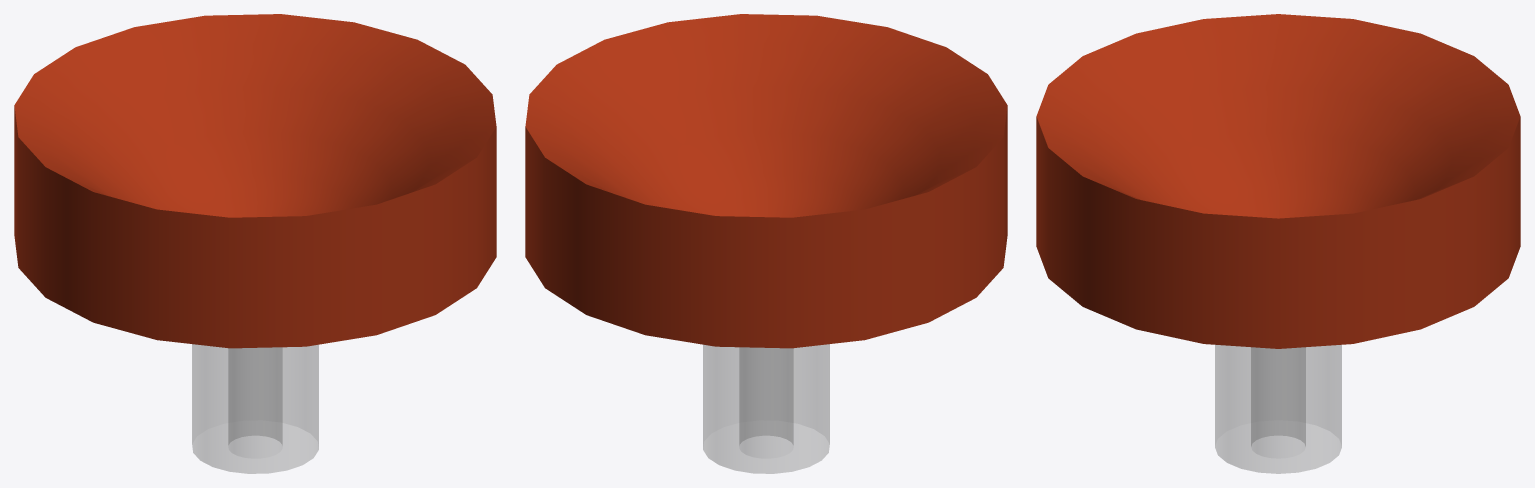
Rendered from Bowl.fbx.
3 renders of one model, left to right at view 1: azimuth 30°, elevation 25°; view 2: azimuth 150°, elevation 25°; view 3: azimuth 270°, elevation 25°, orthographic.
Parts seen in each view (by area): view 1: pPipe3; view 2: pPipe3; view 3: pPipe3.
Part boxes in pixels (x1,y1,x2,y2): pPipe3: [14, 14, 496, 473]; pPipe3: [525, 14, 1007, 473]; pPipe3: [1036, 14, 1520, 473].
Bounding box in the file's own units: 76.05 × 57.34 × 76.05.
